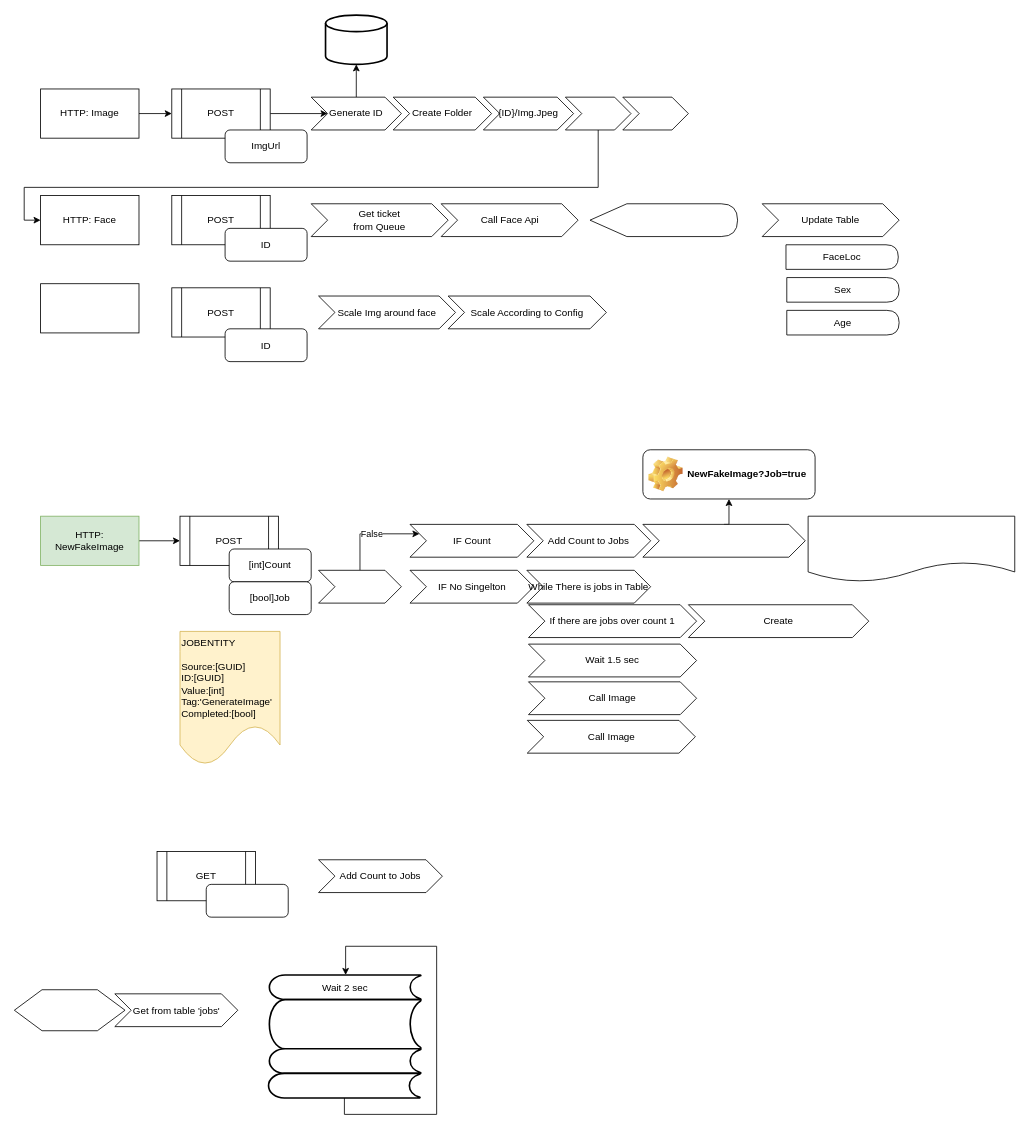
Image size: 1029x1135. Some labels were removed from this diagram. The shapes that lost their labels are listed below. From the top down, each one's centre as x and y in pixels, then its label:
At (x=355, y=39): "Table:Face".
At (x=598, y=113): "FaceAI".
At (x=655, y=113): "Scale".
At (x=663, y=220): "Output is correct or count calls >= max calls".
At (x=89, y=308): "HTTP: Scale".
At (x=723, y=540): "Call Async".
At (x=911, y=548): "JobID:[GUID] Message:'Started Importing x images' Time:[datetime]".
At (x=359, y=586): "IF Job".
At (x=246, y=900): "[GUID]JobID".
At (x=69, y=1010): "Timed:GenerateImg".
At (x=344, y=1023): "Call Image ThisPersonDoesNotExist".
At (x=344, y=1061): "Remove Row".
At (x=344, y=1085): "Do until timer has run out".
